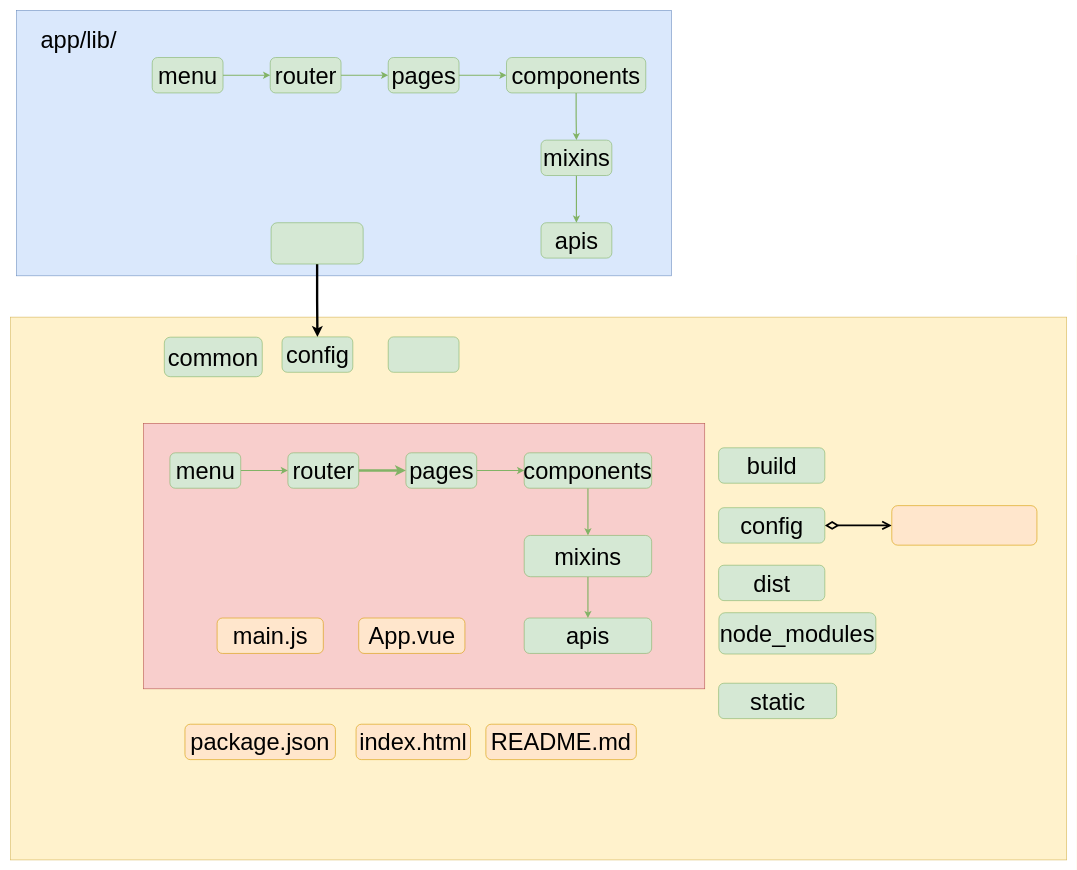
Some shapes in this 1077 by 870 pixel diagram are drawn without their labels. The centre of each missing label's shape, as x and y in pixels:
dev.env.json: the point at 964,525
index.js: the point at 317,243
store: the point at 423,354
